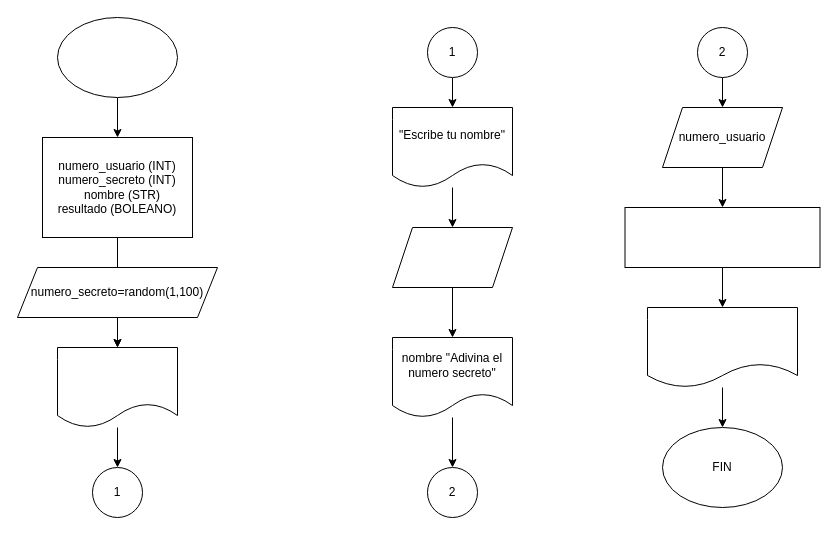
Image size: 838x535. Some labels were removed from this diagram. Here are the shapes that lost their labels. From the top down, the centre of each, then its label:
the point at 117,57: Inicio
the point at 452,257: nombre
the point at 722,237: resultado= numero_secreto==numero_usuario
the point at 722,347: "El rsultado de tu intento es ", resultado
the point at 117,387: "*"+5, "Bienvenido! al juego de adivinar el numero", "*"*5
